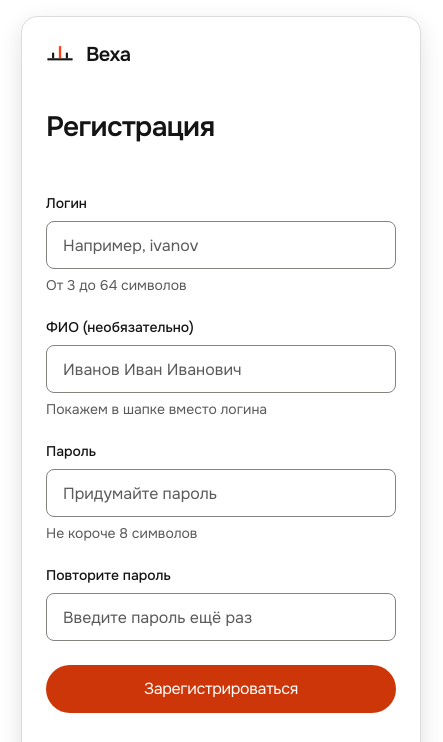
Test case: RegisterPage › shows the server error when the login is taken
The image size is (443, 742).
Type "demo" into the field labelled "Логин".
click(221, 245); type("demo")  # box [46, 221, 396, 269]
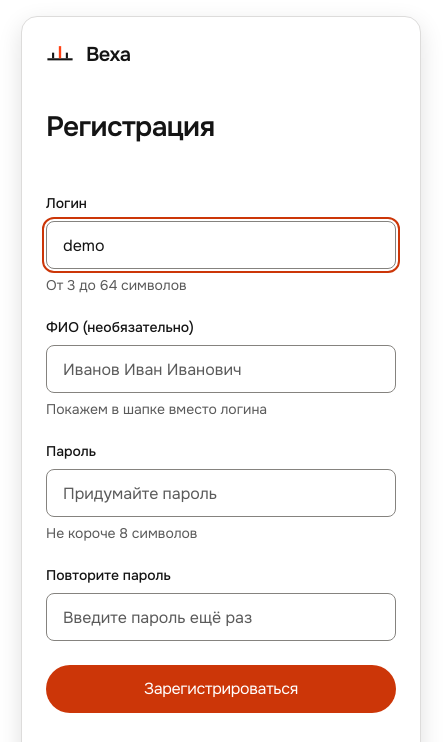
Type "long-enough-password" into the password field labelled "Пароль".
click(221, 493); type("long-enough-password")  # box [46, 469, 396, 517]
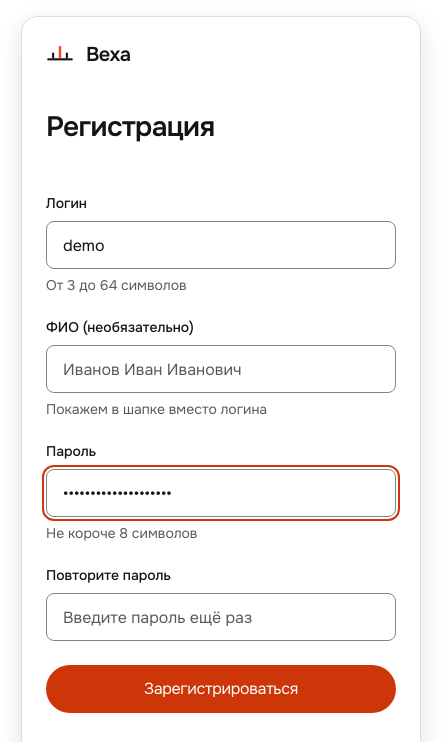
Type "long-enough-password" into the password field labelled "Повторите пароль".
click(221, 617); type("long-enough-password")  # box [46, 593, 396, 641]
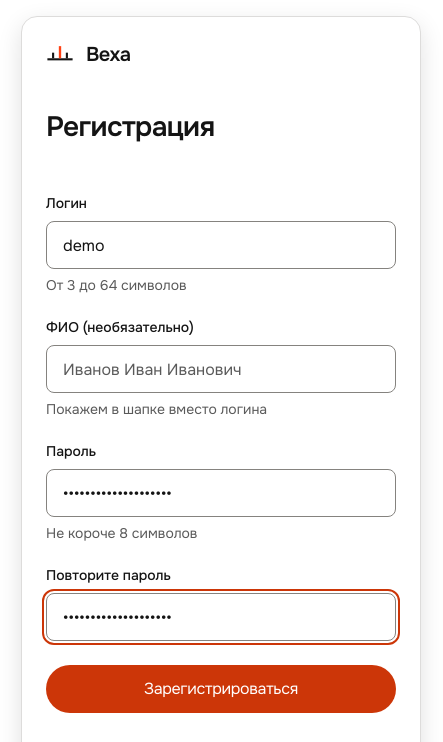
Click the button "Зарегистрироваться".
click(221, 689)  # box [46, 665, 396, 713]
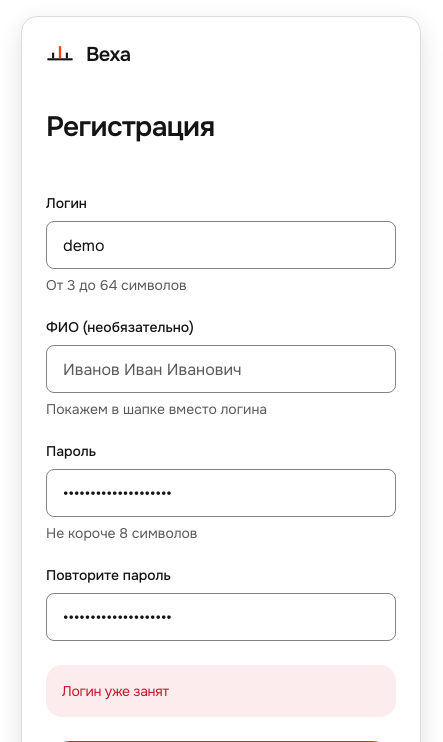
Now the text "Логин уже занят" is shown, box [46, 665, 396, 717]
